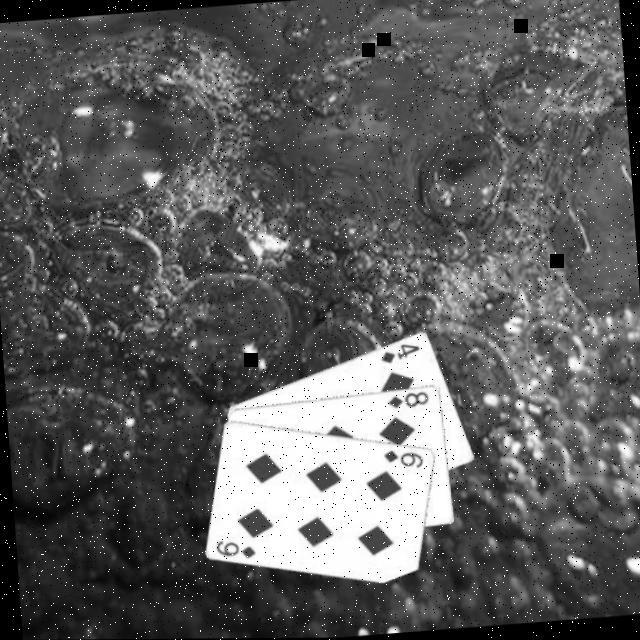4D: (374, 337, 422, 364)
6D: (378, 442, 424, 472), (210, 532, 256, 561)
8D: (382, 386, 430, 410)
